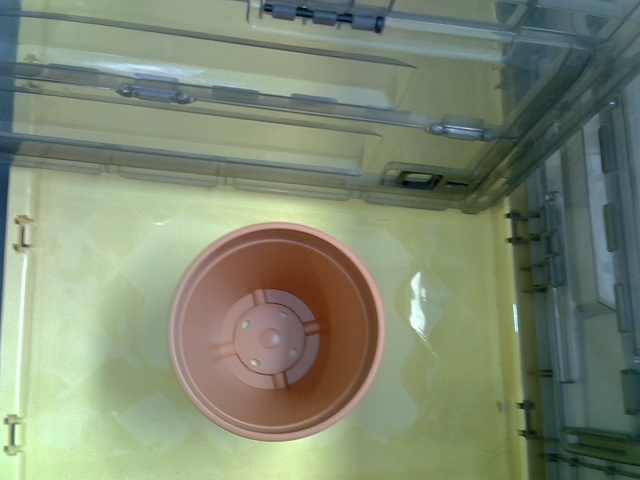화분: (166, 224, 384, 443)
